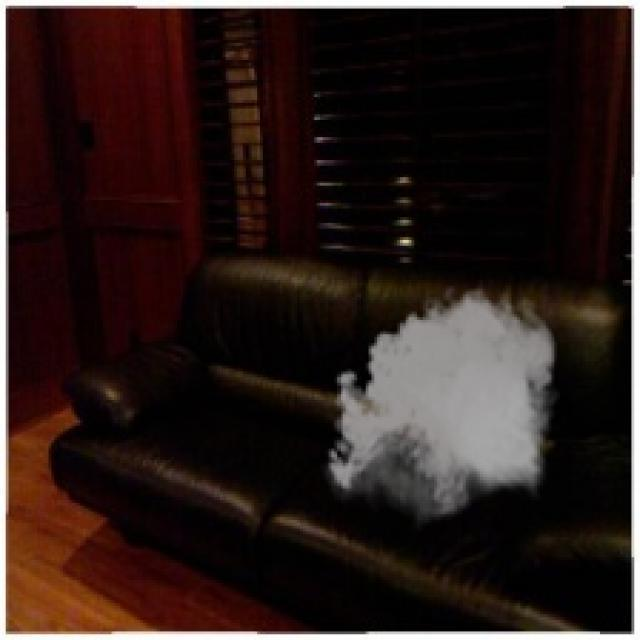Smoke: (320, 279, 566, 532)
